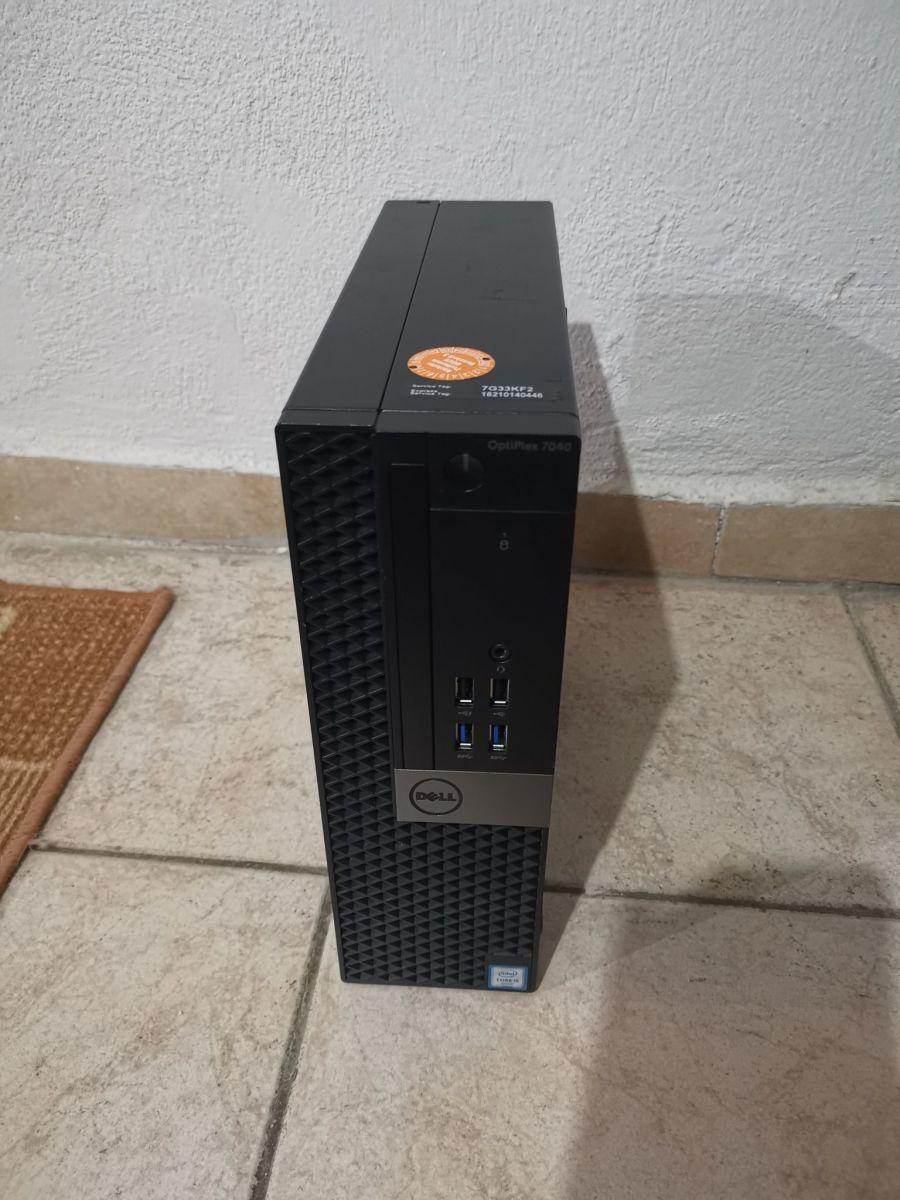computer_tower: (277, 199, 564, 990)
